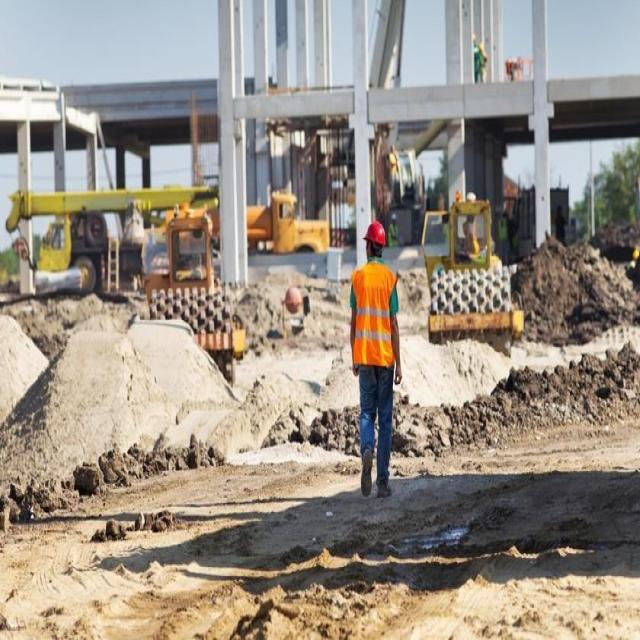helmet: (362, 209, 392, 249)
jacket: (349, 260, 404, 373)
